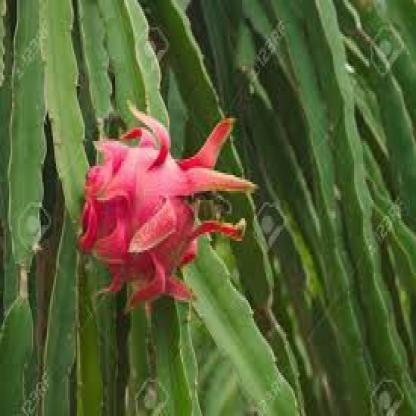dragon-fruit: (81, 146, 196, 282)
